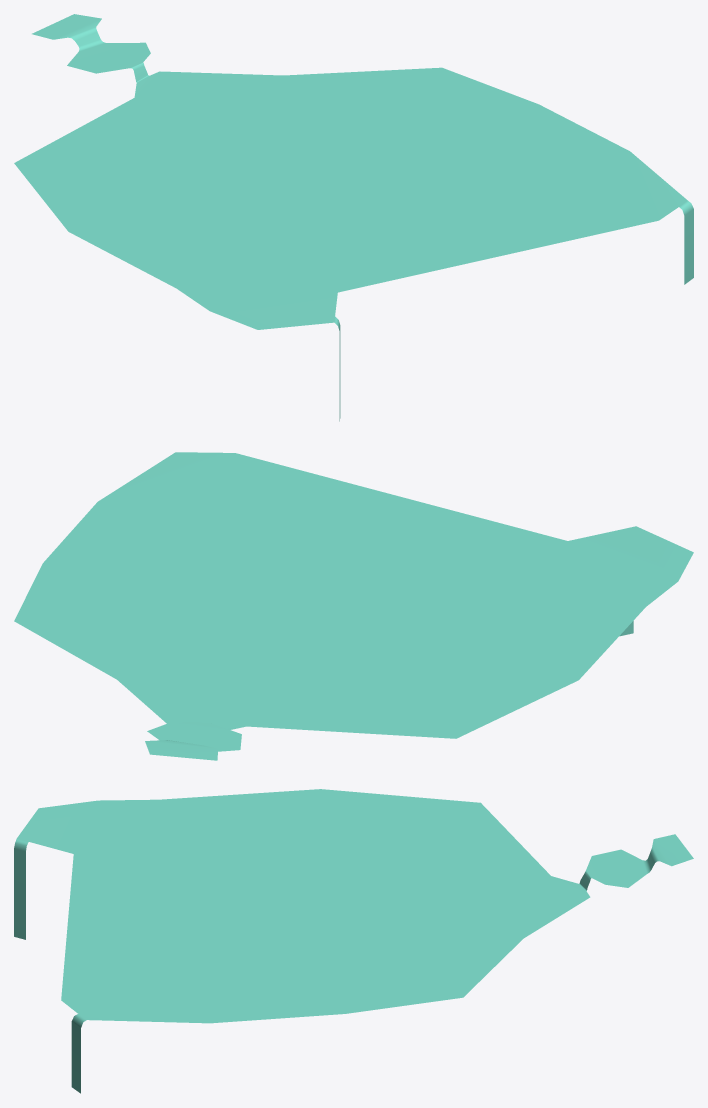
Rendered from Mesh_Home_RF_River_01_SM.fbx.
3 renders of one model, top to bottom at view 1: azimuth 30°, elevation 25°; view 2: azimuth 150°, elevation 25°; view 3: azimuth 270°, elevation 25°, orthographic. The views are drawn at different scales.
Visible parts, largest first — view 1: Mesh_Home_RF_River_01; view 2: Mesh_Home_RF_River_01; view 3: Mesh_Home_RF_River_01.
Boxes of the visible parts, x1,y1,x2,y2 form: Mesh_Home_RF_River_01: (14,14,693,421); Mesh_Home_RF_River_01: (14,452,693,760); Mesh_Home_RF_River_01: (14,789,693,1093).
Bounding box in the file's own units: 5382 × 1291 × 6601.
Materials: 1 (1 with a texture image).
